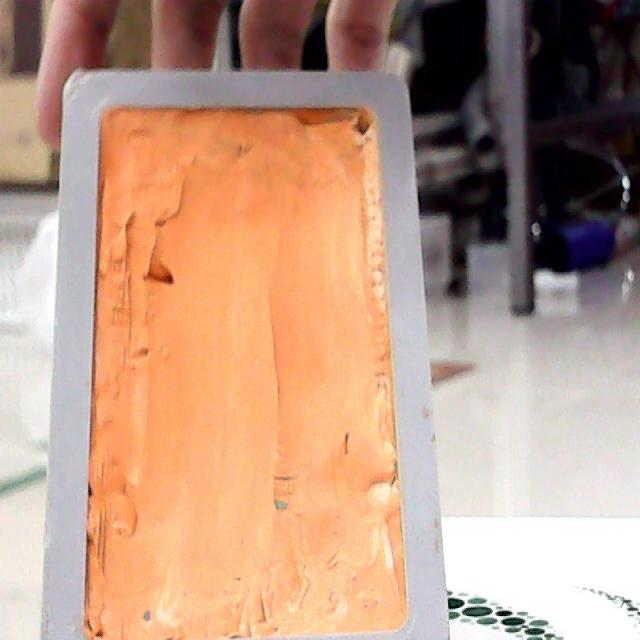block: (39, 65, 442, 638)
